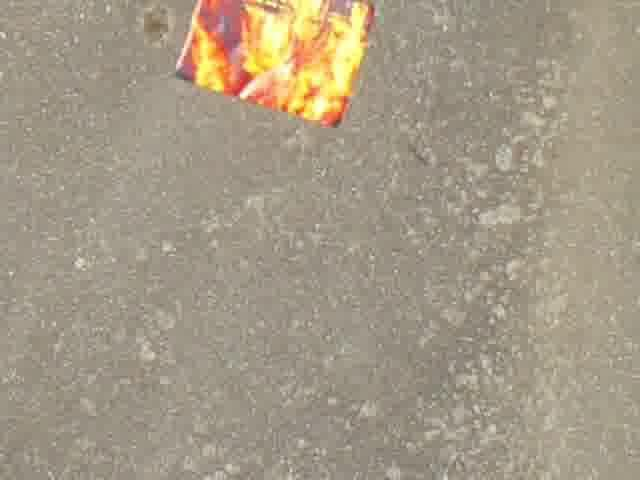fire-poster: (172, 0, 374, 126)
